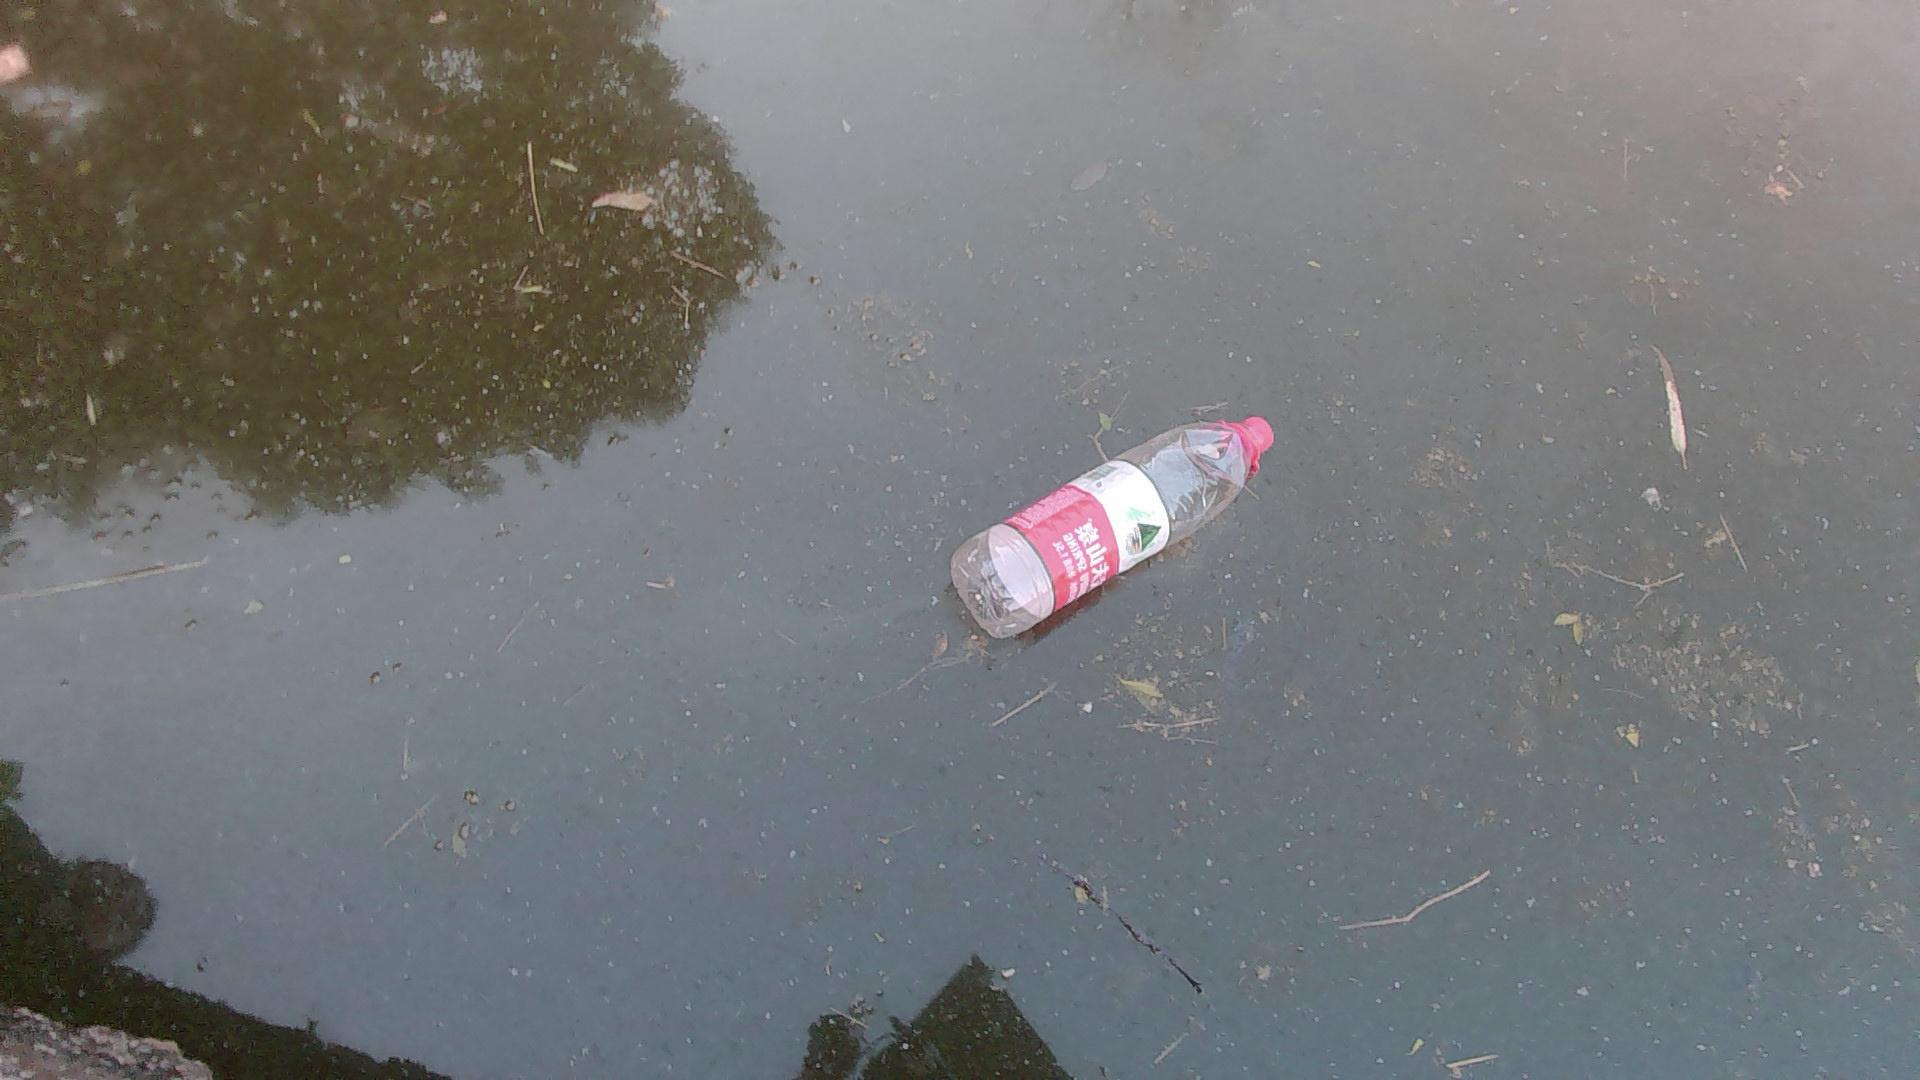Plastic: (948, 407, 1292, 642)
